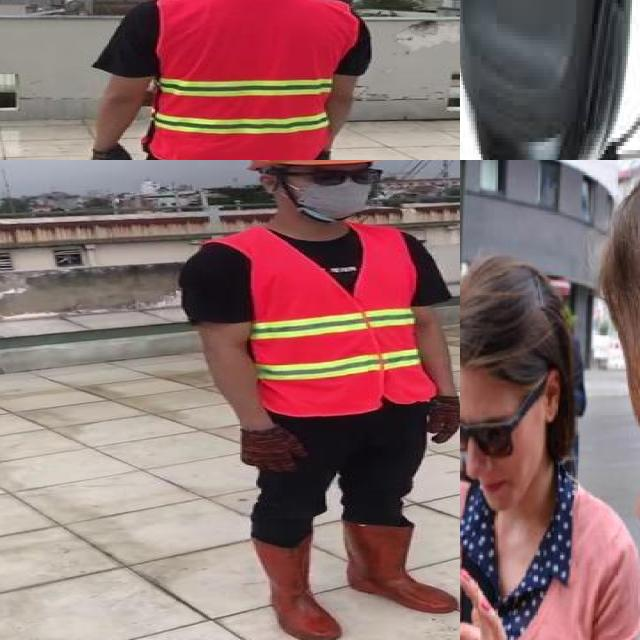Ear-protection: (460, 0, 634, 160)
boots: (338, 513, 457, 615), (250, 537, 341, 640)
face_mask: (284, 161, 383, 222)
face_nomask: (460, 402, 530, 507)
glasses: (460, 405, 519, 460), (294, 164, 389, 192)
hand_glove: (233, 428, 306, 471), (428, 398, 460, 443), (91, 146, 137, 160)
hand_noglove: (460, 564, 527, 640)
head_helmet: (83, 0, 376, 160)
head_nohelmet: (460, 287, 557, 384)
person: (198, 160, 460, 640), (460, 254, 638, 640)
vest: (249, 225, 434, 417), (153, 0, 350, 160)
